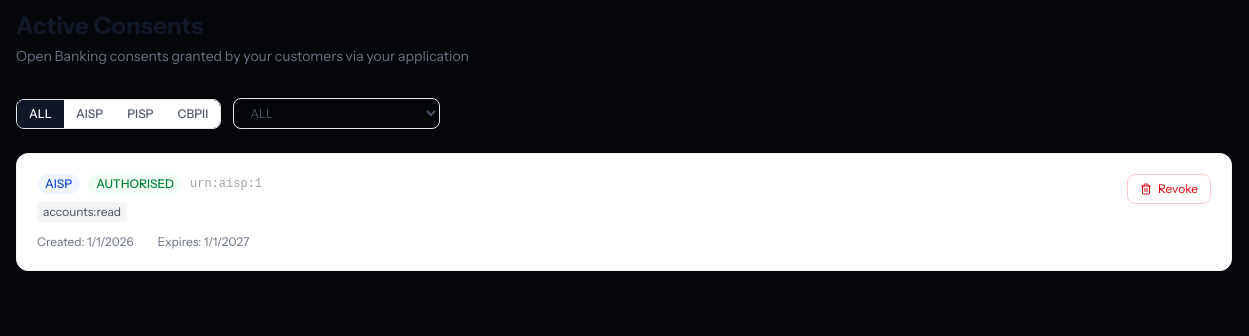
Test: ConsentsPage › shows the empty-state when no consent matches the filters
This screenshot has width=1249, height=336.
Expected: the text "urn:aisp:1" is shown, [190,176,262,192]
What coordinates should you click on to do the following:
click the button "PISP"
I would click on:
 (140, 114)
Its box is [115,100,166,128].
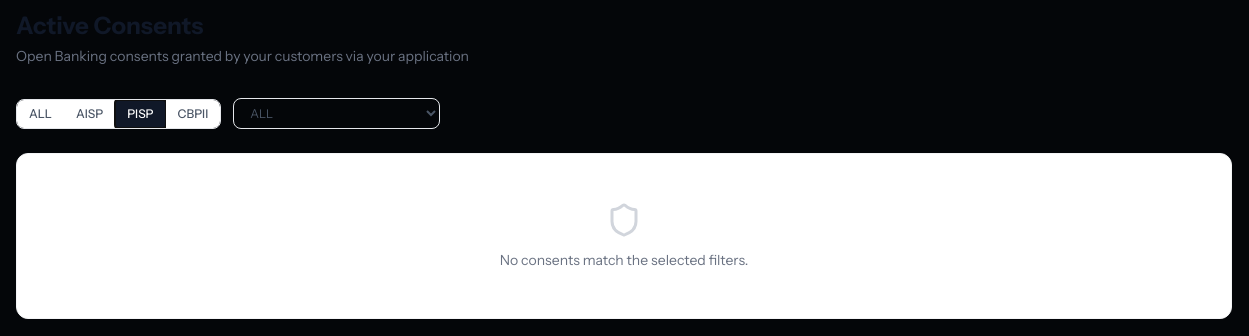
Expected: the text "No consents match the selected filters." is shown, [500,251,748,269]
